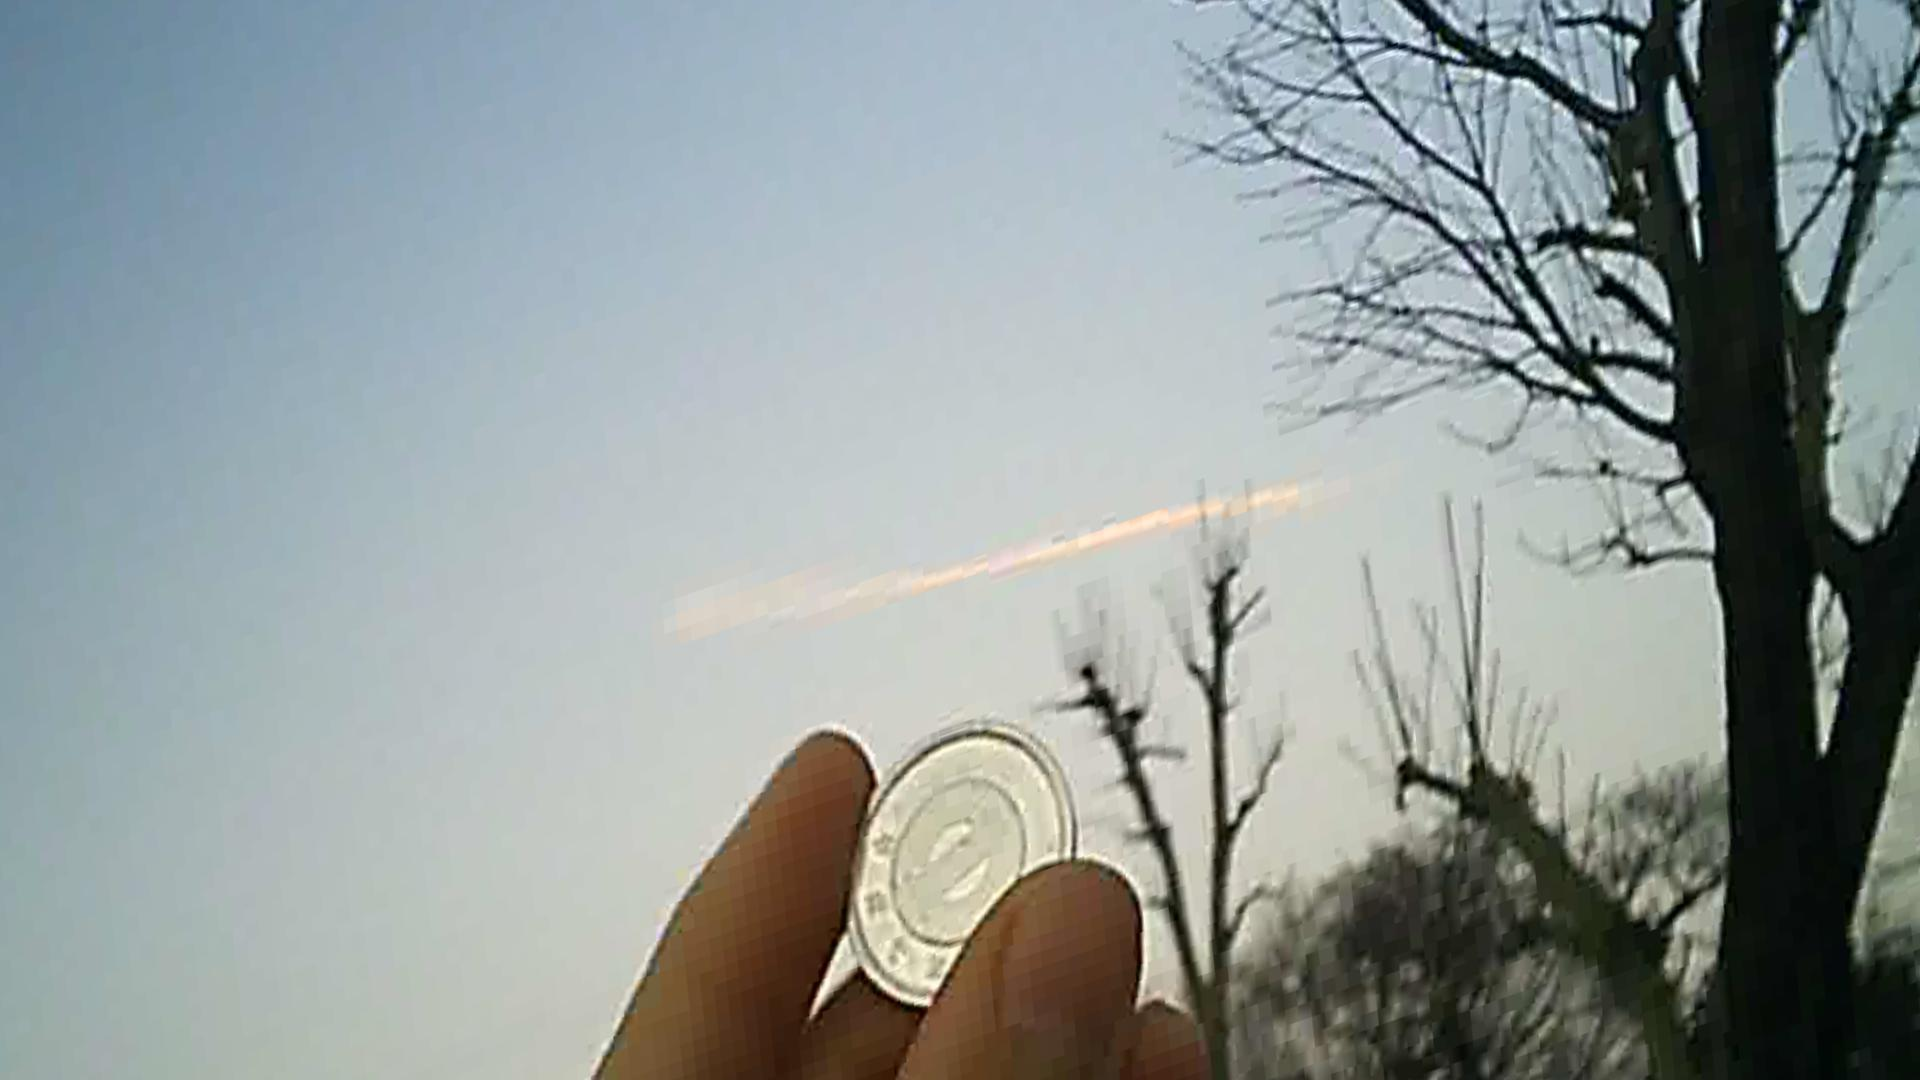1 Yen: (800, 711, 1072, 993)
